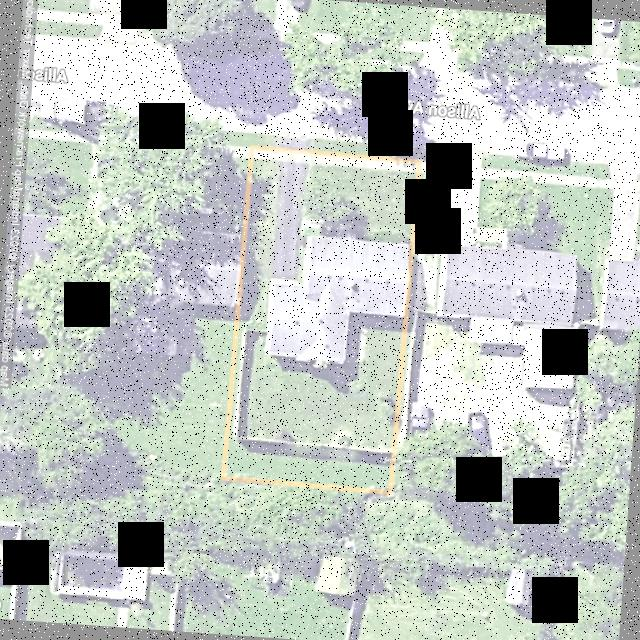Driveway: (270, 152, 309, 279)
Extra Driveway: (278, 136, 311, 150)
Extra Lawn: (310, 139, 420, 160), (248, 133, 279, 147)
House: (264, 236, 407, 365)
Sidewalk: (345, 312, 398, 362), (307, 154, 415, 172), (298, 216, 348, 233), (252, 150, 279, 160)
